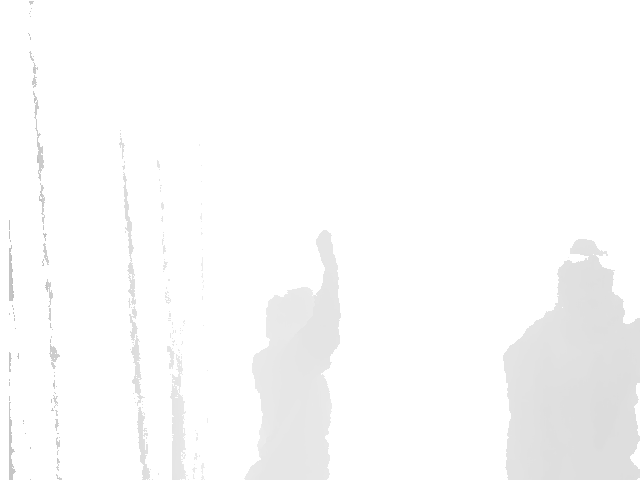hand: (315, 229, 339, 265)
head: (555, 237, 622, 324), (263, 289, 323, 350)
person: (501, 237, 640, 480), (238, 229, 342, 480)
